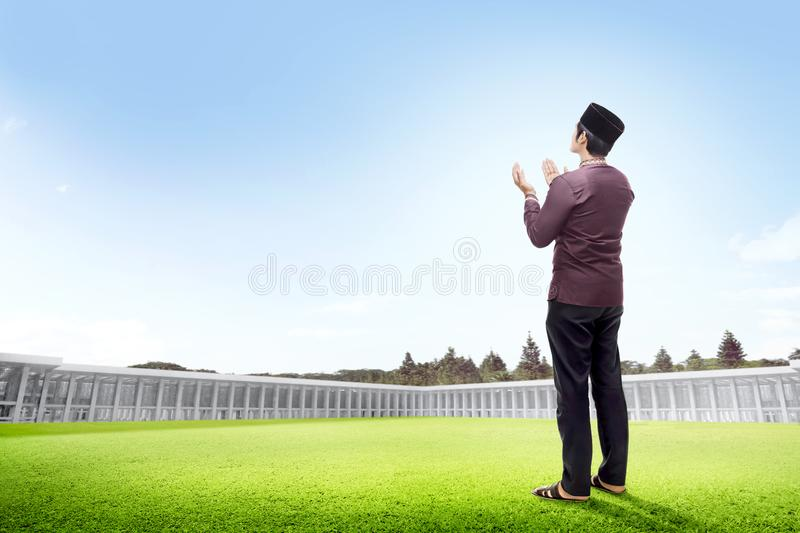person: (508, 102, 634, 497)
